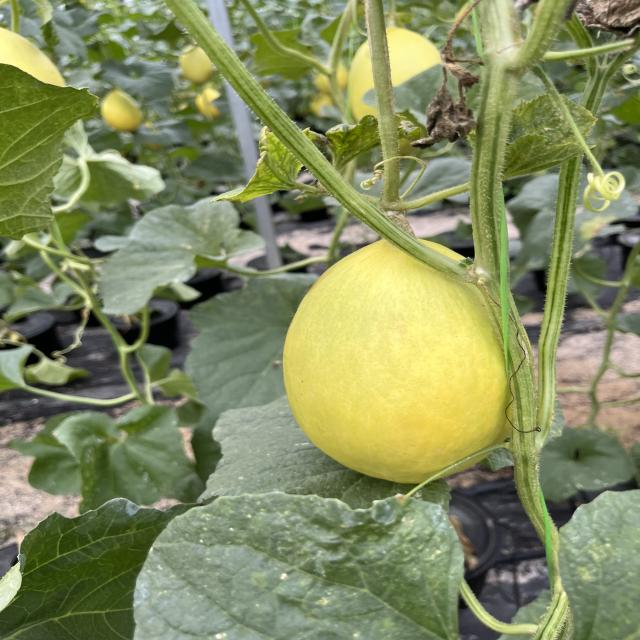SLCV: (493, 95, 613, 189)
bacterial wilt: (401, 77, 487, 153), (579, 0, 640, 43)
healthy: (0, 495, 190, 639)
